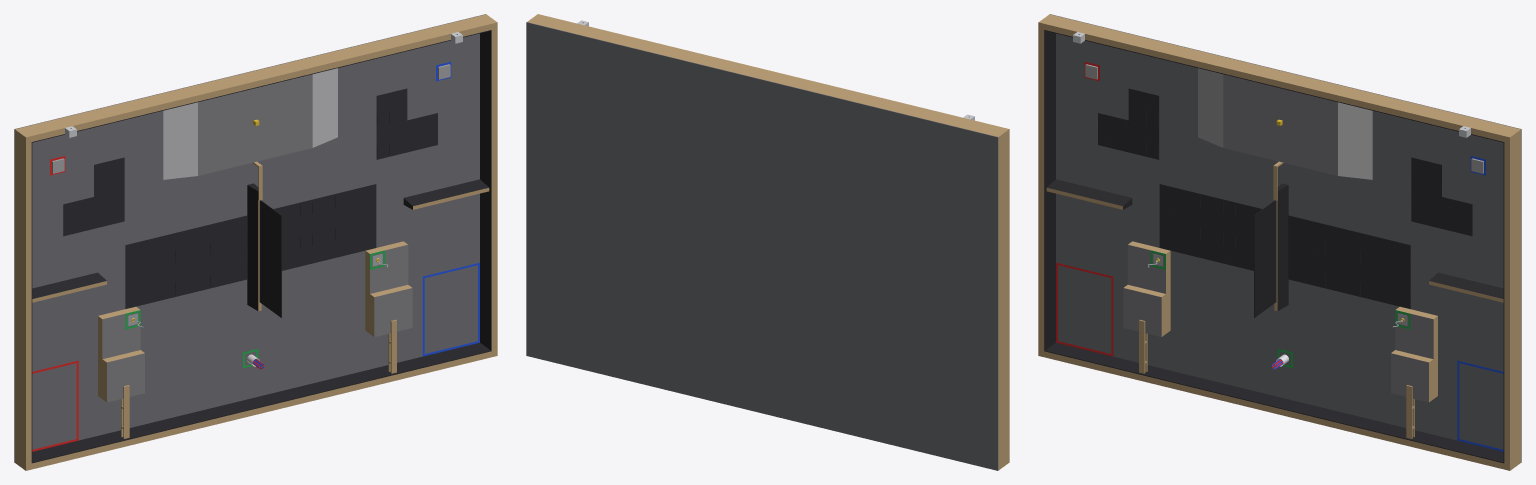
Rendered from ARCC_S2_3v3_Battlefield.obj.
3 views of the same model, side by side, from view 1: azimuth 30°, elevation 25°; view 2: azimuth 150°, elevation 25°; view 3: azimuth 330°, elevation 25° (orthographic).
Parts seen in each view (by area): view 1: mesh168, mesh10, mesh359, mesh333, mesh136, mesh112, mesh127, mesh115, mesh150, mesh138, mesh2, mesh16 (+23 smaller); view 2: mesh167, mesh136, mesh127, mesh166; view 3: mesh168, mesh10, mesh359, mesh333, mesh136, mesh112, mesh141, mesh105, mesh150, mesh138, mesh13, mesh18 (+23 smaller).
Part boxes in pixels (x1,y1,x2,y2): mesh168: [32, 33, 479, 449]; mesh10: [198, 74, 312, 175]; mesh359: [63, 88, 437, 305]; mesh333: [63, 92, 437, 308]; mesh136: [15, 14, 496, 137]; mesh112: [32, 342, 490, 462]; mesh127: [15, 136, 25, 464]; mesh115: [480, 31, 490, 350]; mesh150: [26, 350, 497, 470]; mesh138: [26, 22, 497, 143]; mesh2: [163, 102, 197, 179]; mesh16: [259, 200, 281, 317]; mesh167: [526, 22, 997, 470]; mesh136: [527, 14, 1008, 136]; mesh127: [998, 135, 1009, 464]; mesh166: [527, 22, 997, 137]; mesh168: [1056, 33, 1503, 449]; mesh10: [1223, 74, 1337, 175]; mesh359: [1098, 88, 1472, 305]; mesh333: [1098, 92, 1472, 308]; mesh136: [1039, 14, 1520, 137]; mesh112: [1045, 342, 1503, 462]; mesh141: [1510, 136, 1520, 464]; mesh105: [1045, 31, 1055, 350]; mesh150: [1038, 350, 1509, 470]; mesh138: [1038, 22, 1509, 143]; mesh13: [1338, 102, 1372, 179]; mesh18: [1254, 200, 1276, 317].
Bounding box in the file's own units: 12.34 × 8.34 × 1.43.
